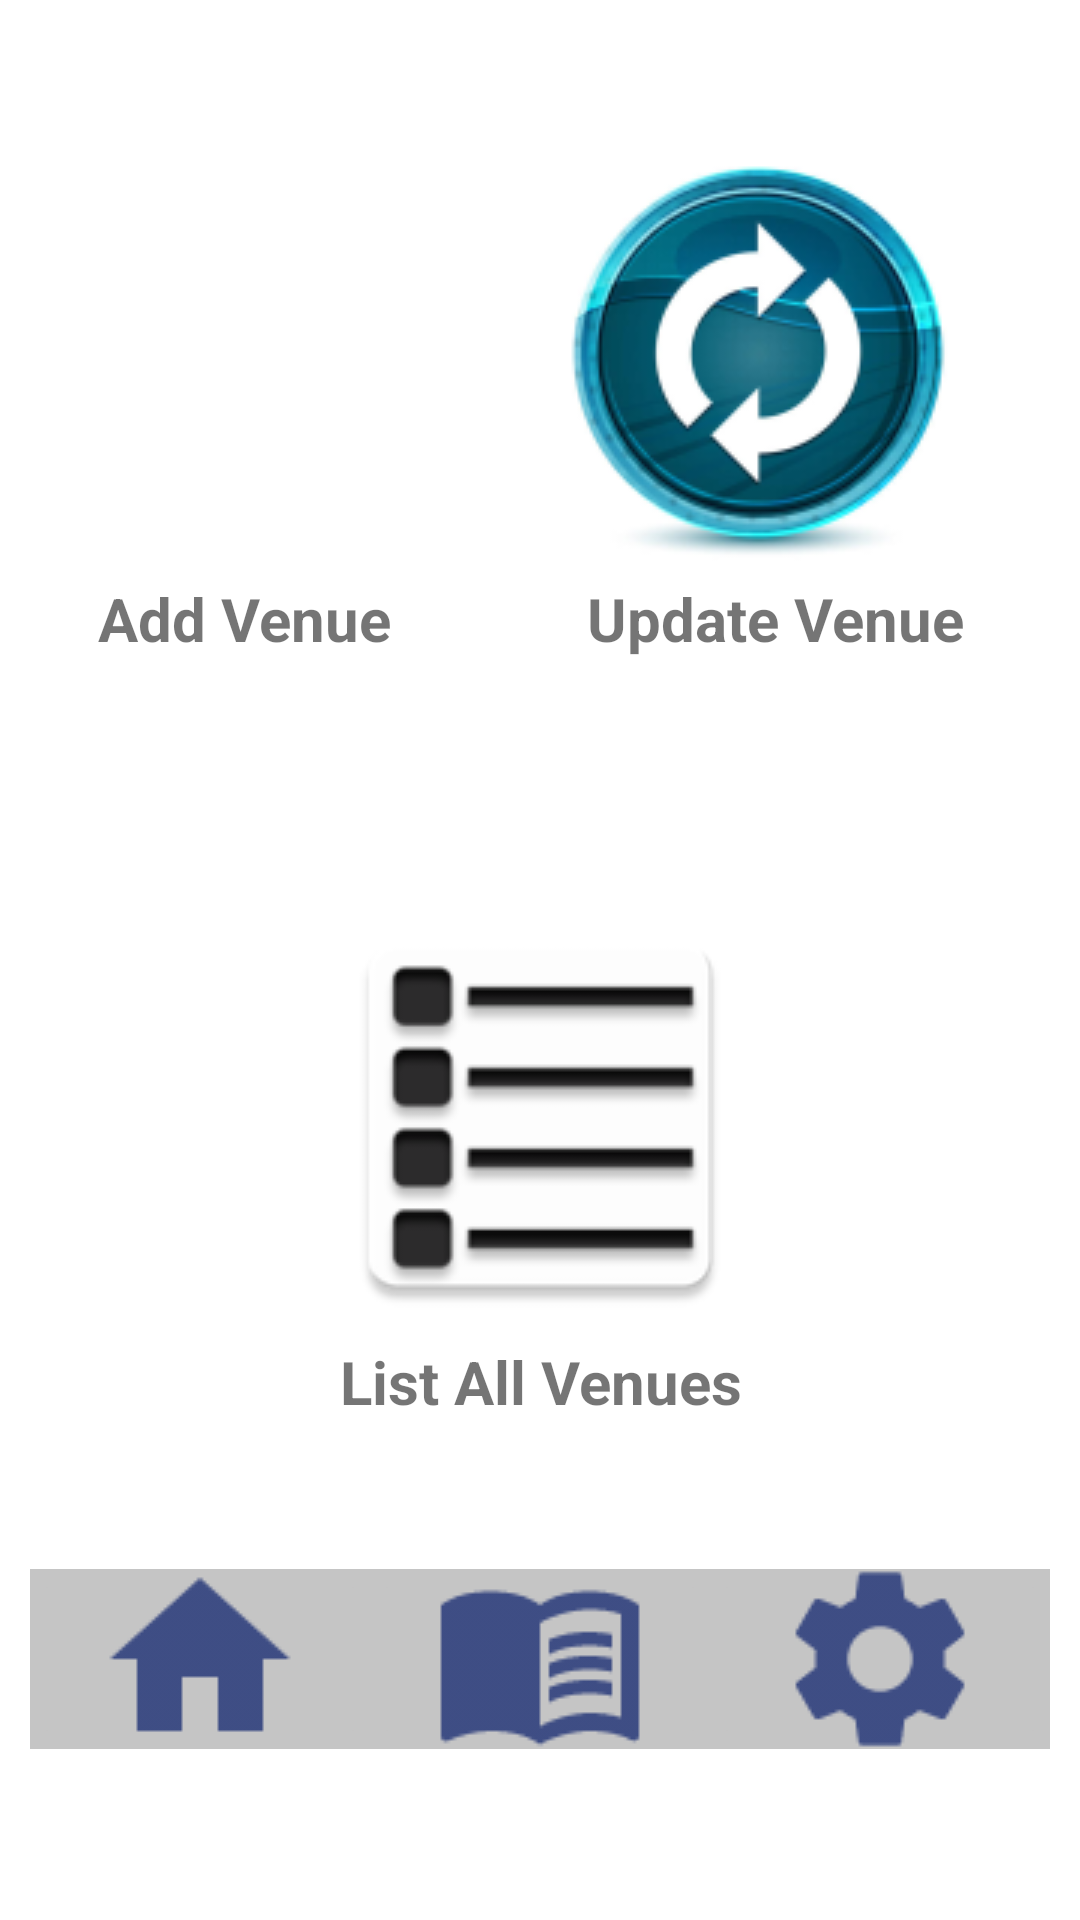

Icon click points for this 1080 × 1920 phone screenshot, format (x=x, y=y):
home: (x=200, y=1659)
setting: (x=880, y=1659)
